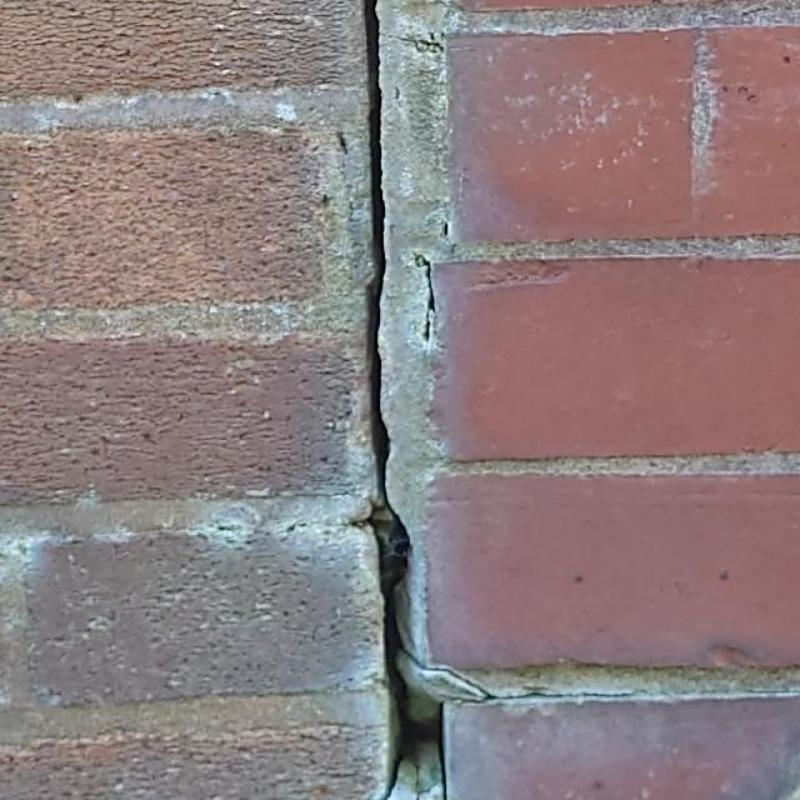pothole: (359, 0, 447, 799), (400, 646, 799, 706), (415, 254, 436, 344)
